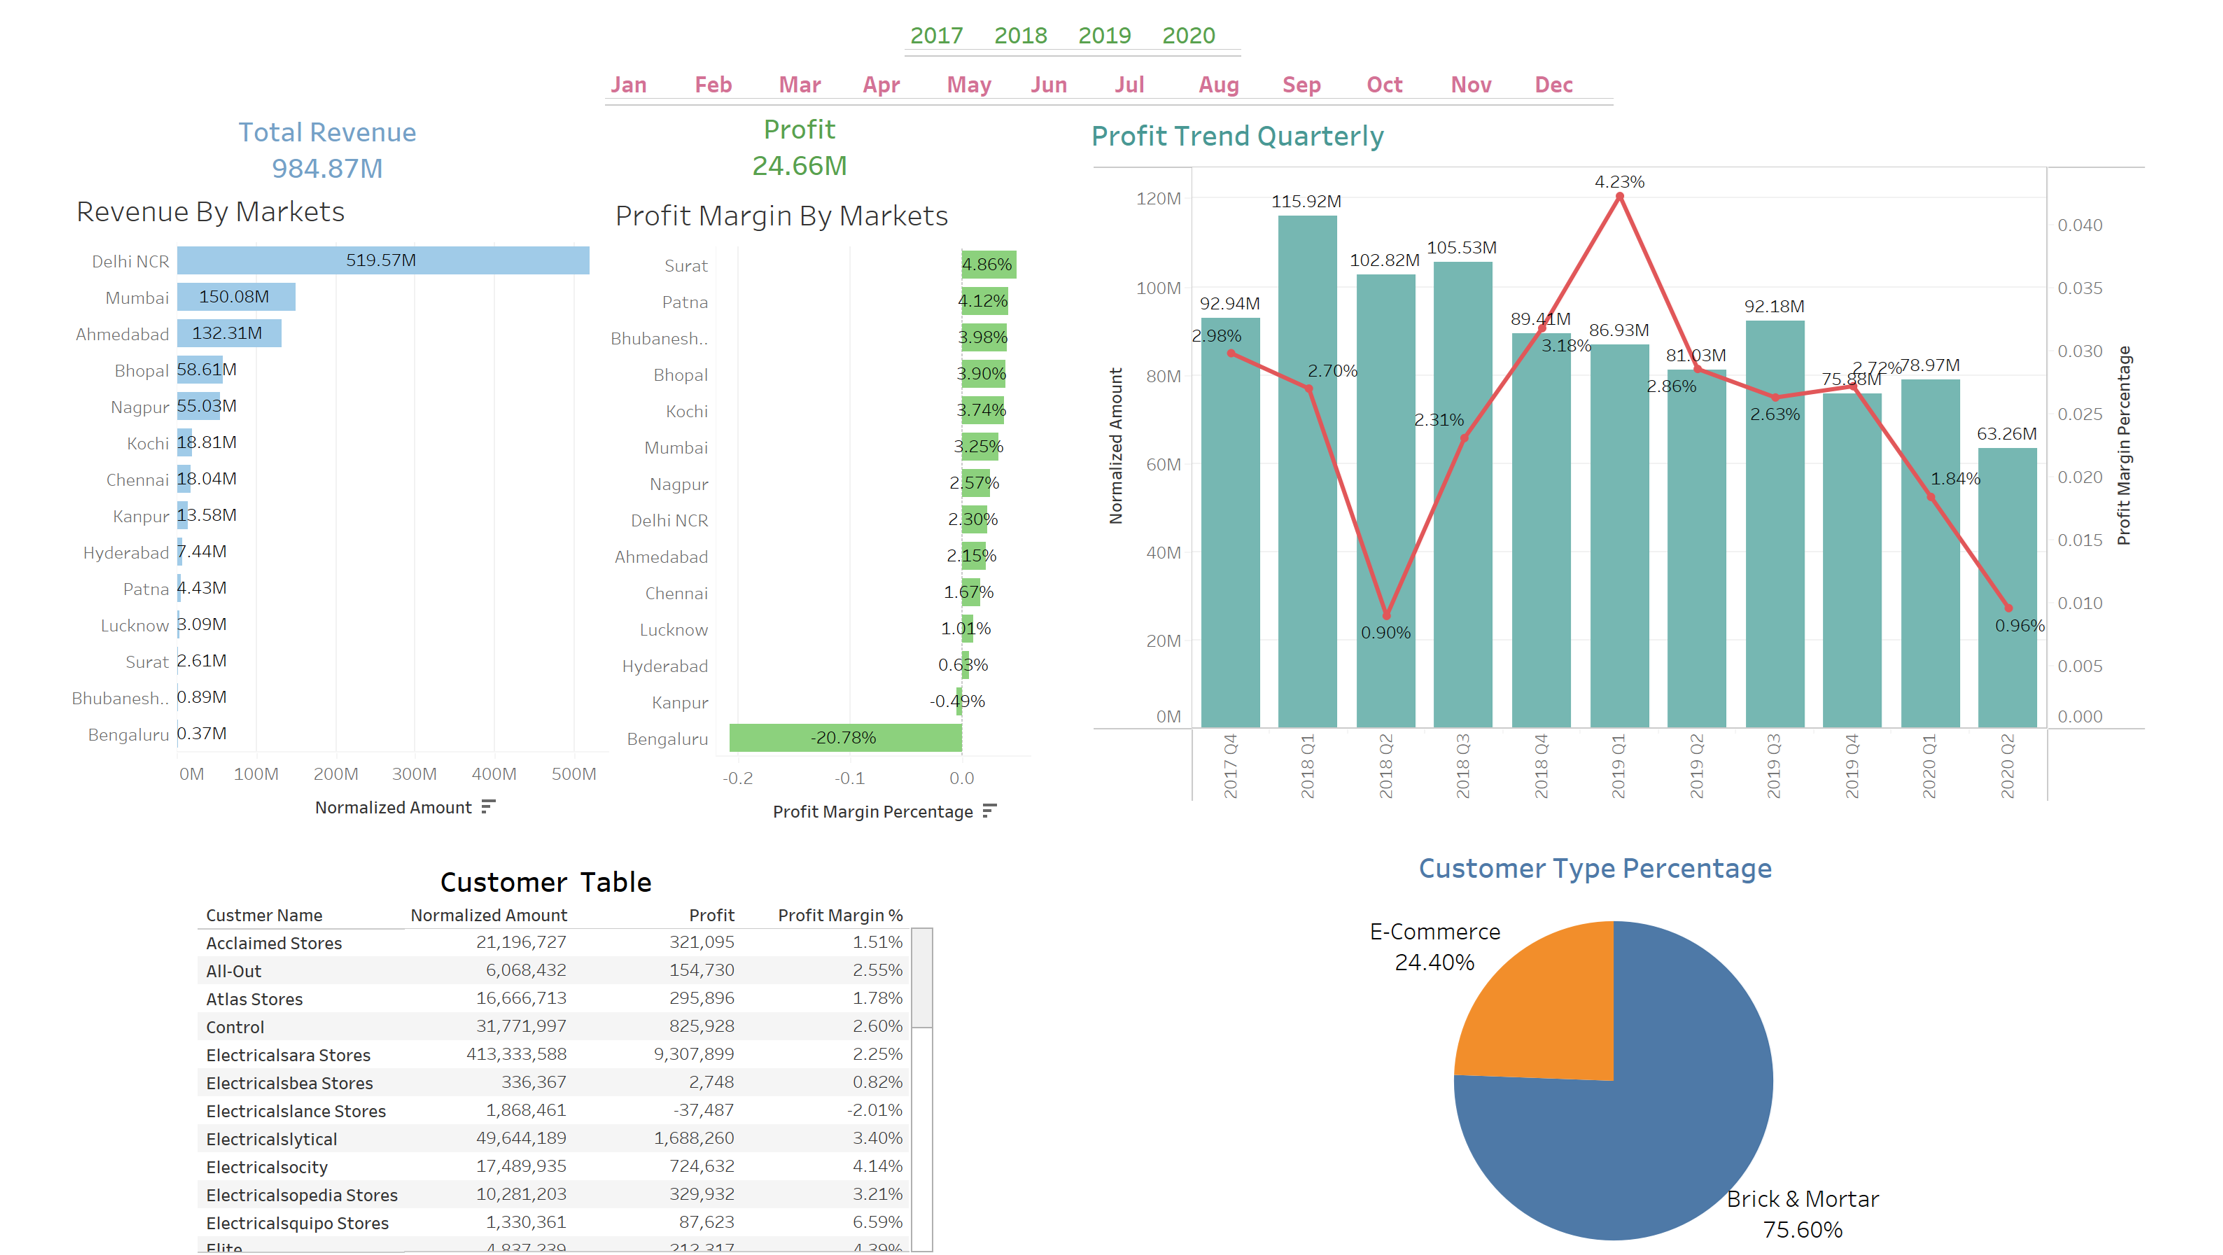

This screenshot's page, from the dashboard's own definition file:
{"tool":"tableau","page":{"name":"Dashboard - Profit Analysis","canvas":[1500,900],"ordinal":0},"visuals":[{"type":"worksheet","title":"Month","mark":"Automatic","cols":["cy_date"],"box":[385,35,721,45]},{"type":"worksheet","title":"Revenue","mark":"Automatic","box":[117,66,154,83]},{"type":"worksheet","title":"Profit Trend Quarterly","mark":"Automatic","box":[728,76,399,233]},{"type":"worksheet","title":"Profit","mark":"Automatic","box":[485,79,141,64]},{"type":"worksheet","title":"Profit Trend","mark":"Bar","rows":["Calculation_996421462989475840","Calculation_996421463207165954"],"cols":["cy_date"],"box":[734,119,752,454]},{"type":"worksheet","title":"Revenue By Markets","mark":"Automatic","rows":["markets_name"],"cols":["Calculation_996421462989475840"],"box":[3,130,386,476]},{"type":"worksheet","title":"Profit Margin By Markets","mark":"Automatic","rows":["markets_name"],"cols":["Calculation_996421463207165954"],"box":[388,133,301,500]},{"type":"worksheet","title":"Customer Type Percentage","mark":"Automatic","box":[962,599,312,50]},{"type":"worksheet","title":"Customer  Table","mark":"Automatic","box":[263,609,161,51]},{"type":"worksheet","title":"Pie Chart","mark":"Pie","box":[901,637,409,255]},{"type":"worksheet","title":"Customer Table","mark":"Automatic","rows":["custmer_name"],"box":[94,643,569,252]}]}

Visuals, with their boxes on the page's 1500x900 design canvas (x1, y1, x2, y2). These are canvas units, not pixel positions in the 2223x1255 screenshot, which may show the page scaled, cropped or inside an application window:
"Month" worksheet: bbox=[385, 35, 1106, 80]
"Revenue" worksheet: bbox=[117, 66, 271, 149]
"Profit Trend Quarterly" worksheet: bbox=[728, 76, 1127, 309]
"Profit" worksheet: bbox=[485, 79, 626, 143]
"Profit Trend" worksheet (Bar marks): bbox=[734, 119, 1486, 573]
"Revenue By Markets" worksheet: bbox=[3, 130, 389, 606]
"Profit Margin By Markets" worksheet: bbox=[388, 133, 689, 633]
"Customer Type Percentage" worksheet: bbox=[962, 599, 1274, 649]
"Customer  Table" worksheet: bbox=[263, 609, 424, 660]
"Pie Chart" worksheet (Pie marks): bbox=[901, 637, 1310, 892]
"Customer Table" worksheet: bbox=[94, 643, 663, 895]
